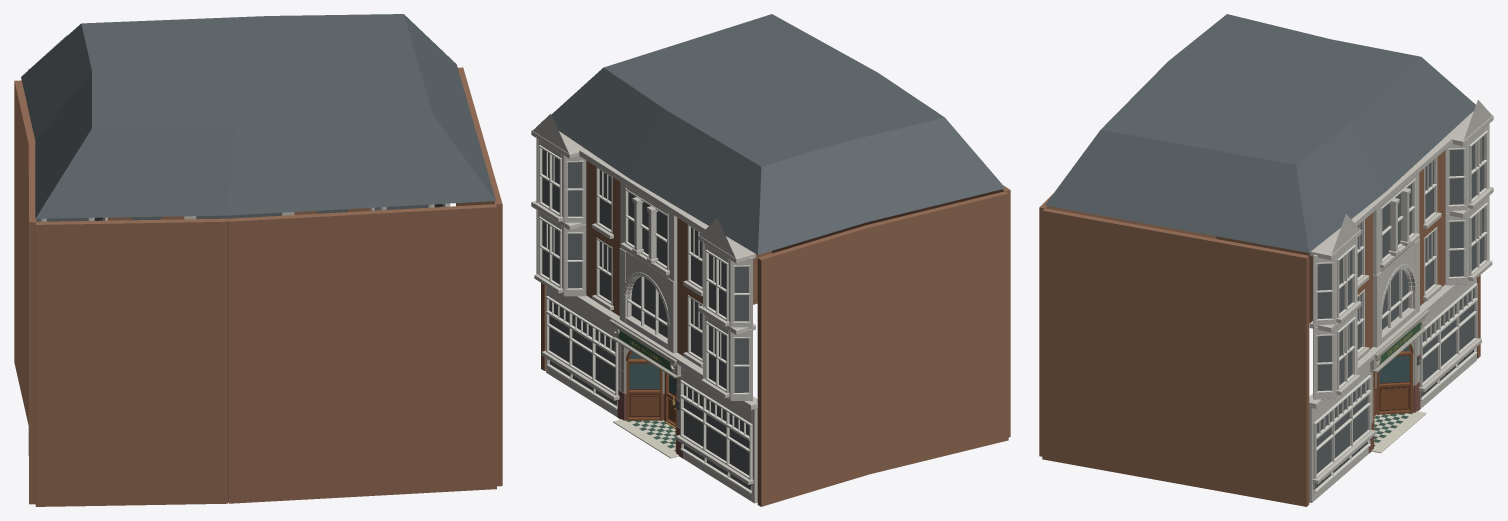
Rendered from lch-exterior-1b4645d9cef7.glb.
3 views of the same model, side by side, from view 1: azimuth 30°, elevation 25°; view 2: azimuth 150°, elevation 25°; view 3: azimuth 270°, elevation 25° (orthographic). The views are drawn at different scales.
Parts seen in each view (by area): view 1: LCH.001; view 2: LCH.001; view 3: LCH.001.
Part boxes in pixels (x1=…): LCH.001: x1=14, y1=14, x2=502, y2=506; LCH.001: x1=531, y1=14, x2=1010, y2=506; LCH.001: x1=1039, y1=14, x2=1493, y2=506.
Size of the model in its own units: 19.23 by 13.5 by 17.71.
